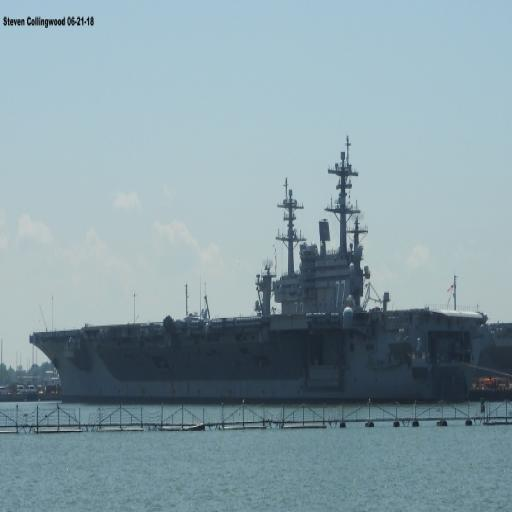Portanaves: (27, 121, 497, 409)
